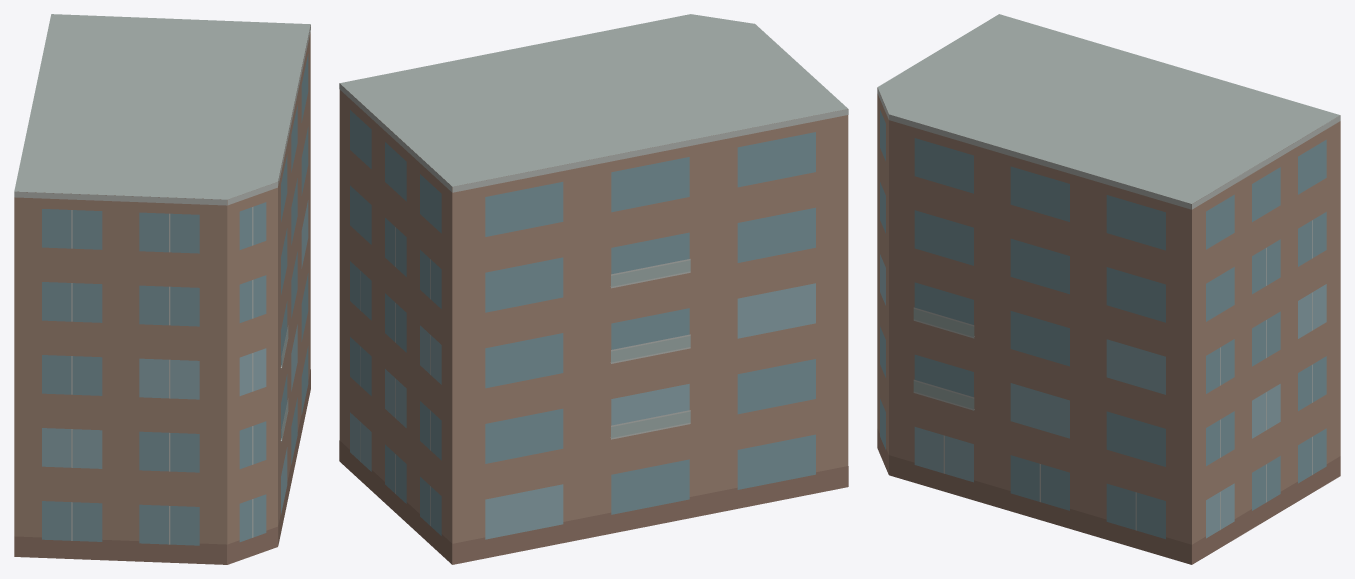
Rendered from survey-upis-32776258.glb.
3 renders of one model, left to right at view 1: azimuth 30°, elevation 25°; view 2: azimuth 150°, elevation 25°; view 3: azimuth 270°, elevation 25°, orthographic. The views are drawn at different scales.
Visible parts, largest first — view 1: survey-upis-32776258.tmp; view 2: survey-upis-32776258.tmp; view 3: survey-upis-32776258.tmp.
Part boxes in pixels (x1,y1,x2,y2): survey-upis-32776258.tmp: (14, 14, 310, 564); survey-upis-32776258.tmp: (339, 14, 848, 564); survey-upis-32776258.tmp: (877, 14, 1340, 564).
Bounding box in the file's own units: 17.23 × 15.25 × 17.74.
